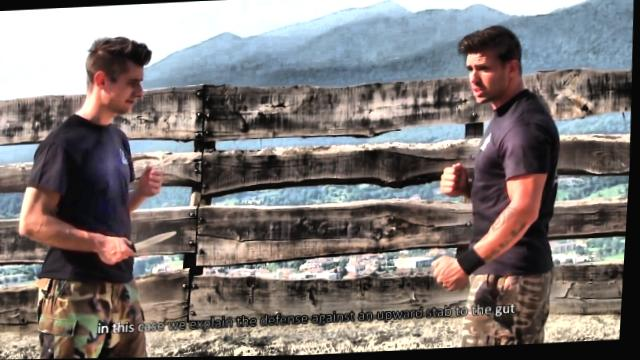knife: (98, 225, 187, 267)
